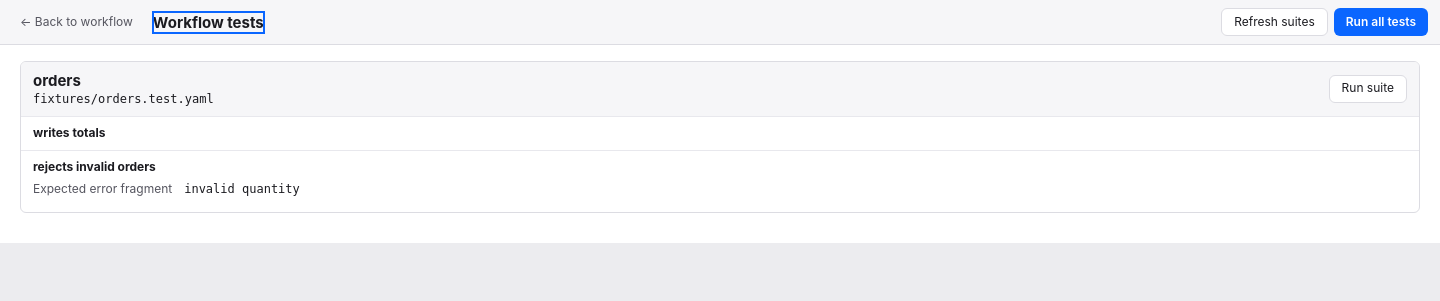
it: cancels an active run and ignores a late result after cancellation
Expected: the element "orders" is shown, 20,61 -> 1420,213
Click the button "Run all tests" at (1381, 22), box 1334,8 -> 1428,36
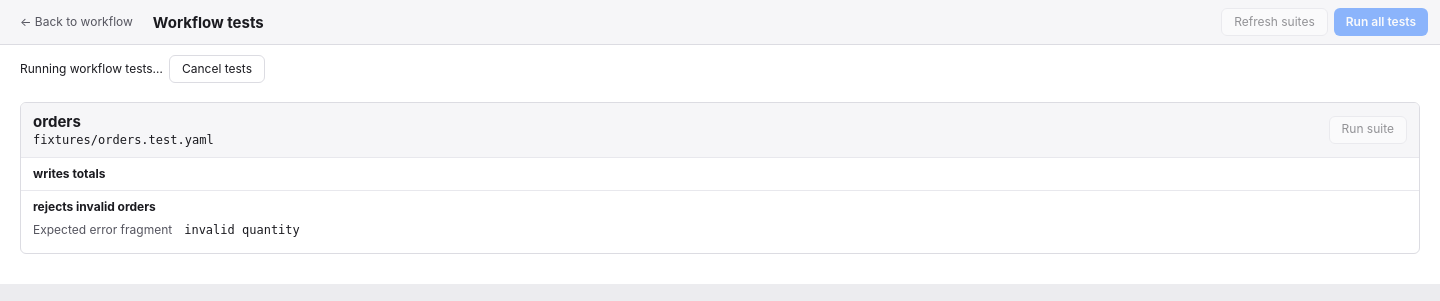
Result: the button "Run all tests" is disabled at 1334,8 -> 1428,36
Click the button "Cancel tests" at (217, 69), box 169,55 -> 265,83
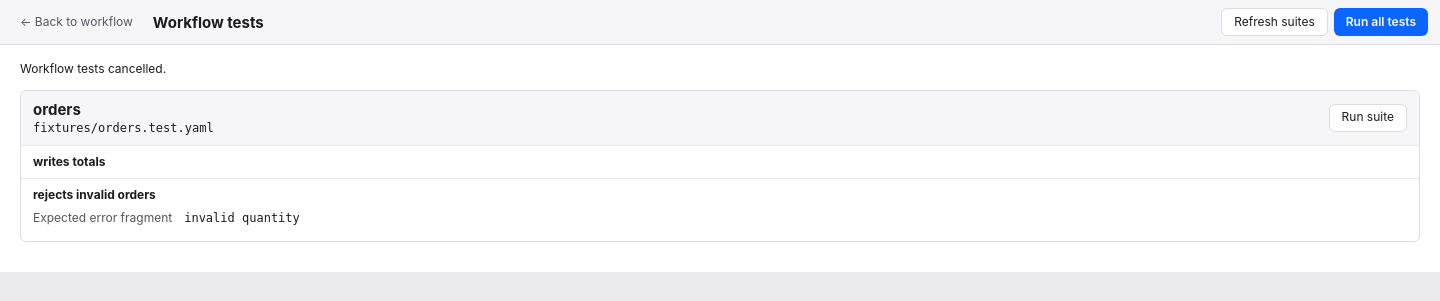
Result: the text "Workflow tests cancelled." is shown at 20,61 -> 166,76
